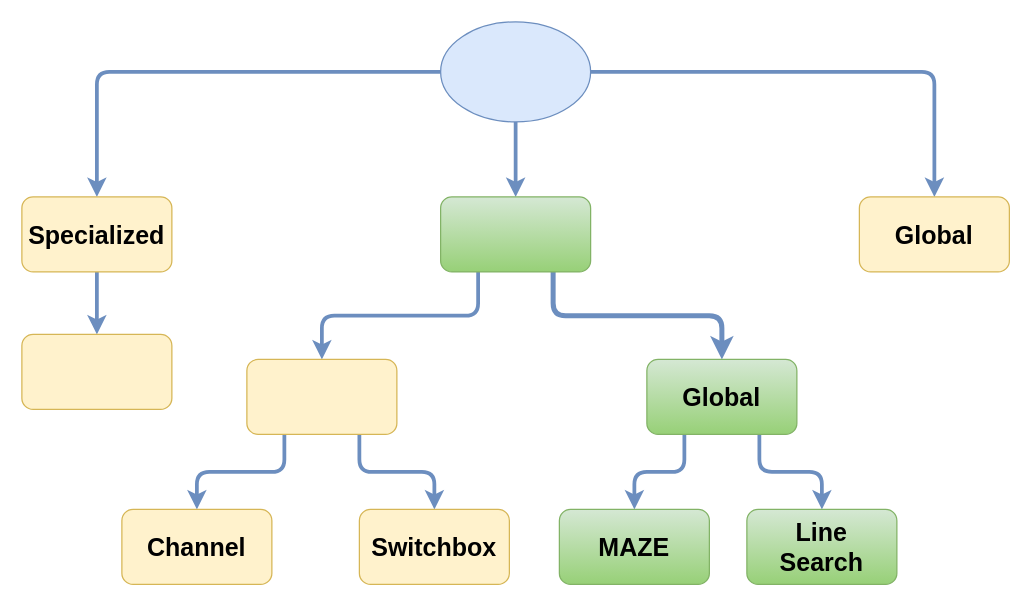
The diagram is 1031 pixels wide and 606 high, and some of its shapes have lost their labels. Here are the shapes that lost their labels. From the top down, the box of each, then its label:
(439, 21, 591, 122): Routing
(439, 196, 591, 272): Detailed
(21, 333, 172, 409): Power and Ground
(246, 358, 397, 434): Restricted
